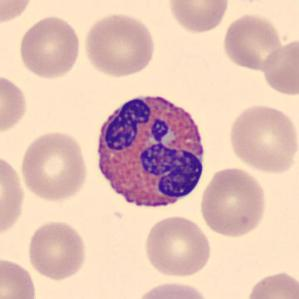Eosinophil: (89, 85, 212, 219)
RBC: (18, 128, 91, 203), (225, 102, 298, 175), (80, 10, 157, 79), (198, 166, 269, 239), (141, 213, 214, 279), (16, 13, 82, 81), (25, 218, 89, 282), (220, 11, 285, 72), (0, 151, 27, 242), (259, 36, 299, 97), (164, 0, 231, 35), (0, 70, 30, 138), (0, 254, 39, 299), (242, 268, 298, 299), (132, 279, 212, 299), (0, 0, 36, 25)
